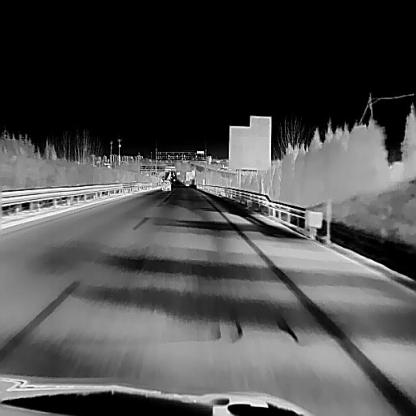car: (160, 178, 171, 190)
